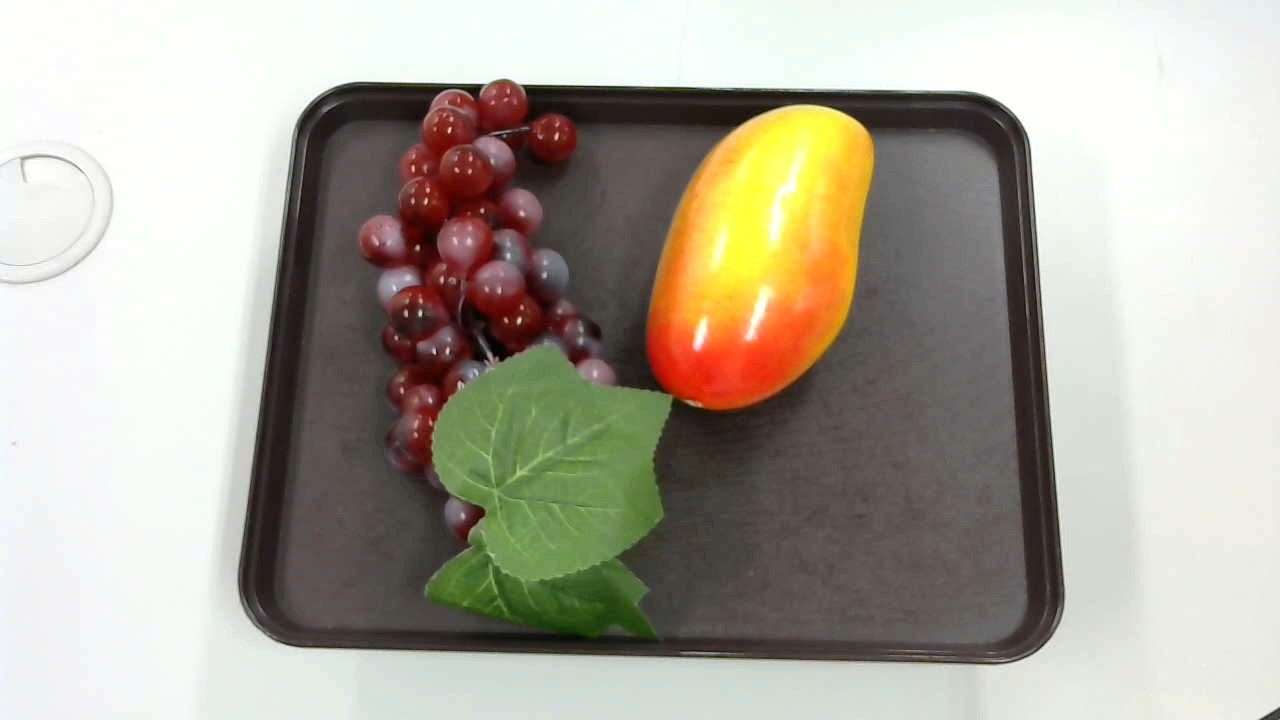grape: (352, 76, 695, 646)
red mango: (642, 107, 879, 408)
